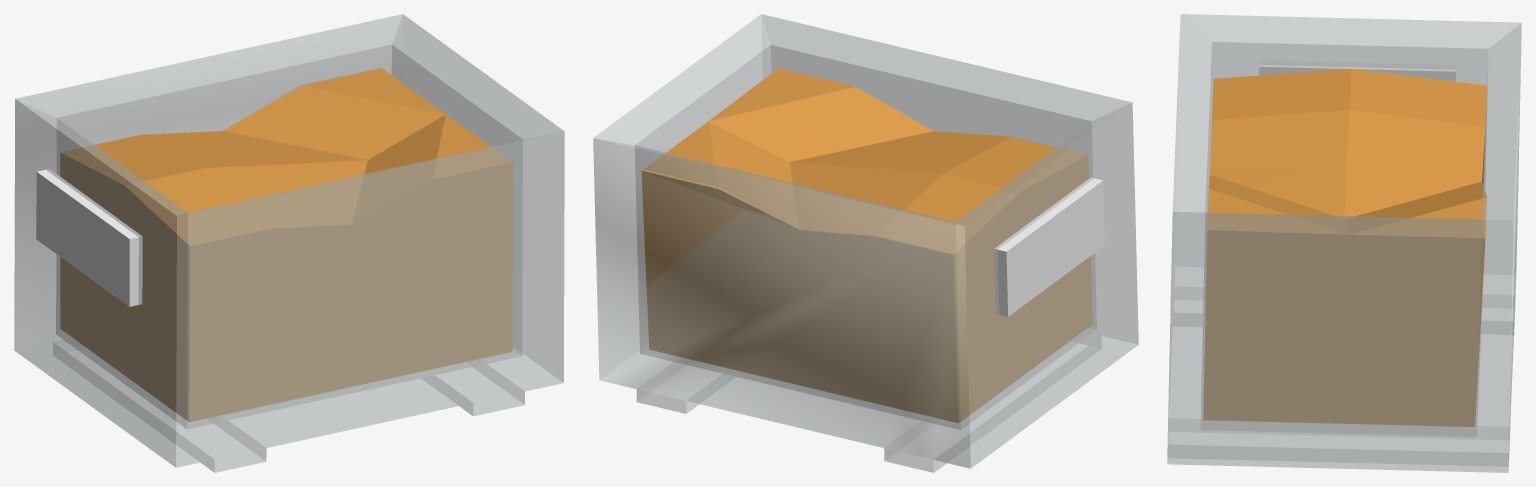
File: pot.fbx
3 renders of one model, left to right at view 1: azimuth 30°, elevation 25°; view 2: azimuth 150°, elevation 25°; view 3: azimuth 270°, elevation 25°, orthographic. The views are drawn at different scales.
Parts seen in each view (by area): view 1: Pot Plant; view 2: Pot Plant; view 3: Pot Plant.
Part boxes in pixels (x1,y1,x2,y2): Pot Plant: (14, 14, 564, 472); Pot Plant: (593, 14, 1138, 472); Pot Plant: (1167, 14, 1521, 472).
Size of the model in its own units: 23.87 by 15.66 by 17.99.
